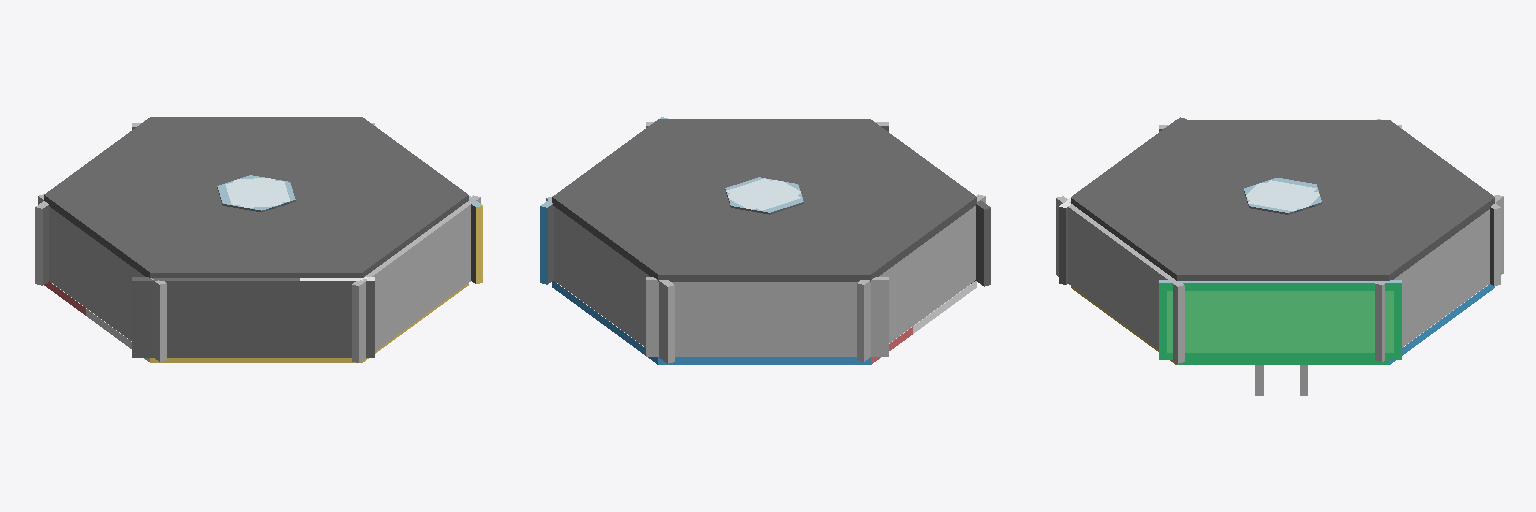
3 views of the same model, side by side, from view 1: azimuth 30°, elevation 25°; view 2: azimuth 150°, elevation 25°; view 3: azimuth 270°, elevation 25° (orthographic).
Parts seen in each view (by area): view 1: Plafond, cube, cylinder, Sol; view 2: Plafond, cube, Sol, cylinder; view 3: Plafond, cube, cylinder, Sol.
Boxes of the visible parts, x1,y1,x2,y2 form: Plafond: [44, 117, 468, 277]; cube: [35, 123, 482, 362]; cylinder: [217, 175, 295, 211]; Sol: [44, 281, 468, 362]; Plafond: [552, 119, 976, 281]; cube: [540, 117, 990, 363]; Sol: [552, 280, 976, 364]; cylinder: [725, 177, 803, 214]; Plafond: [1071, 120, 1494, 280]; cube: [1056, 117, 1503, 395]; cylinder: [1244, 178, 1321, 214]; Sol: [1071, 284, 1494, 364].
Bounding box in the file's own units: 2.95 × 1 × 3.29.
7 materials, 5 textured.